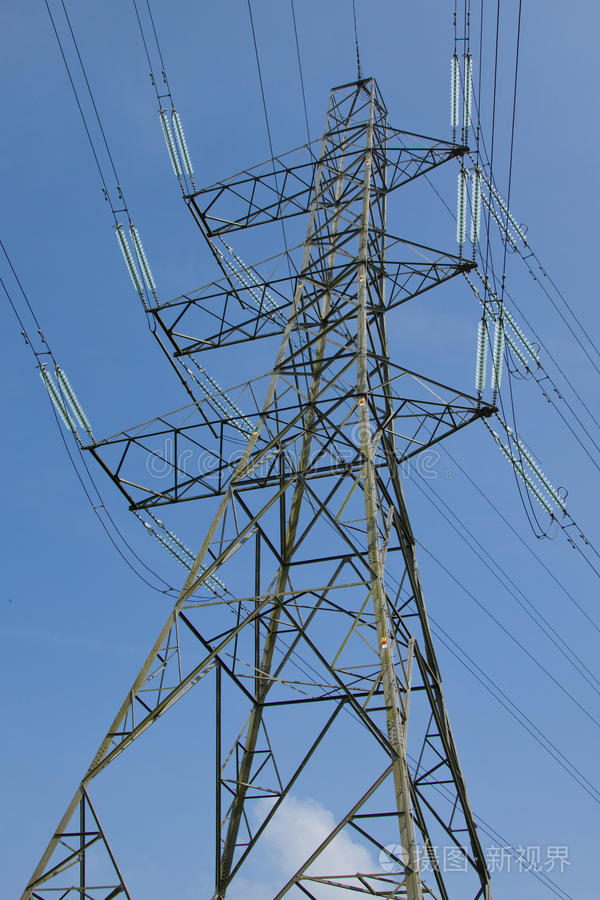insulator: (500, 434, 566, 521), (483, 293, 539, 372), (478, 181, 528, 250), (40, 366, 91, 433), (112, 223, 155, 295), (156, 110, 193, 178), (454, 166, 482, 243), (475, 315, 503, 392), (448, 53, 473, 129)
